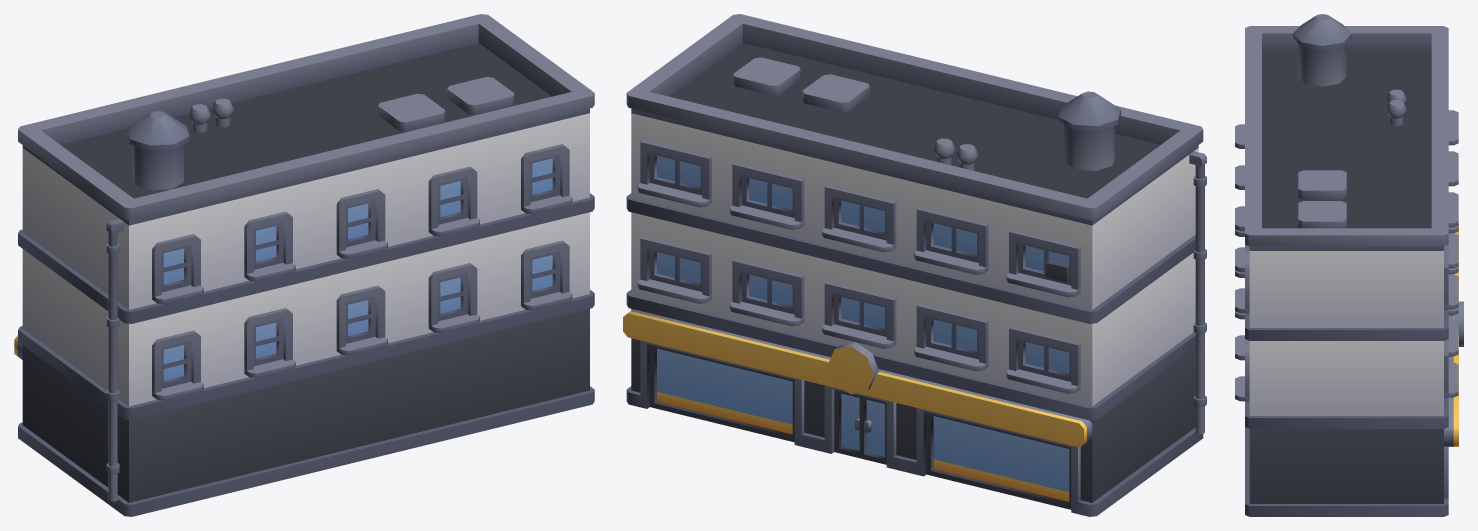
The model's file is building-k.glb.
The picture shows the model from 3 angles, left to right: view 1: azimuth 30°, elevation 25°; view 2: azimuth 150°, elevation 25°; view 3: azimuth 270°, elevation 25°; orthographic projection. The views are drawn at different scales.
Parts seen in each view (by area): view 1: building-k; view 2: building-k; view 3: building-k.
Boxes of the visible parts, <box> form: building-k: <box>14,14,594,516</box>; building-k: <box>623,14,1206,516</box>; building-k: <box>1235,14,1463,516</box>.
Size of the model in its own units: 2.08 by 1.47 by 0.942.
Materials: 1 (1 with a texture image).
